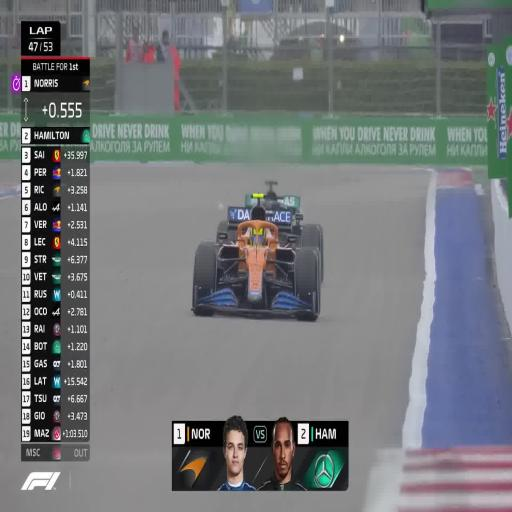f1_car: (192, 193, 320, 320), (262, 181, 323, 282), (216, 193, 259, 242), (228, 206, 238, 217), (259, 202, 261, 203)
